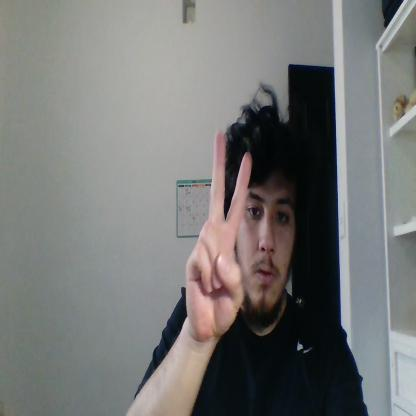V: (185, 132, 252, 339)
